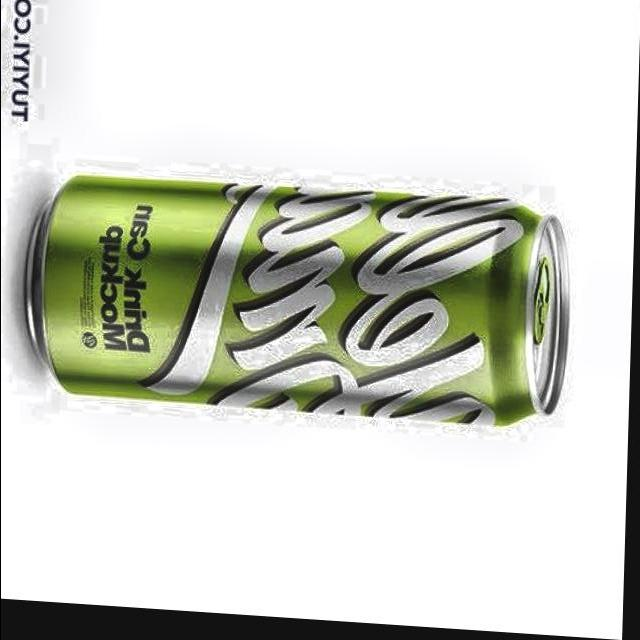litter: (20, 166, 582, 440)
